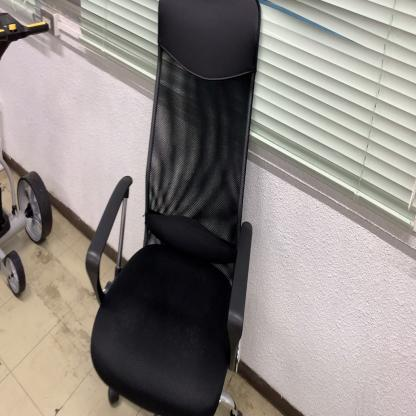chair: (86, 0, 260, 416)
